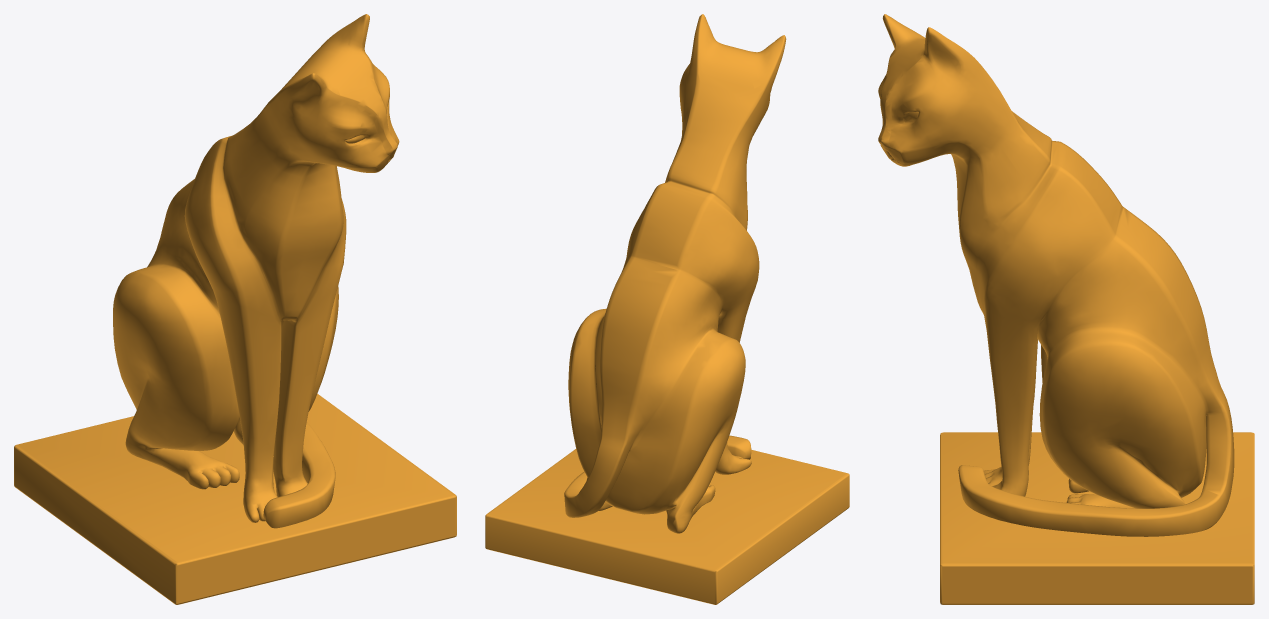
Rendered from artdeco-cat.glb.
3 renders of one model, left to right at view 1: azimuth 30°, elevation 25°; view 2: azimuth 150°, elevation 25°; view 3: azimuth 270°, elevation 25°, orthographic. The views are drawn at different scales.
Parts seen in each view (by area): view 1: cat_artdeco; view 2: cat_artdeco; view 3: cat_artdeco.
Boxes of the visible parts, box(x1,y1,x2,y2) form: cat_artdeco: box(14, 14, 456, 604); cat_artdeco: box(485, 14, 849, 604); cat_artdeco: box(878, 14, 1254, 604).
Bounding box in the file's own units: 16.58 × 30.97 × 19.84.
